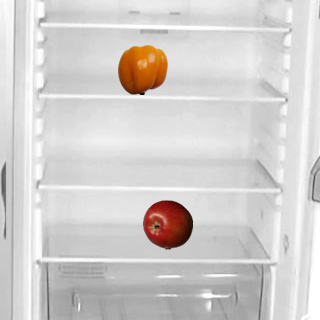Apple Braeburn: (142, 199, 192, 249)
Pepper Yellow: (117, 44, 167, 94)
